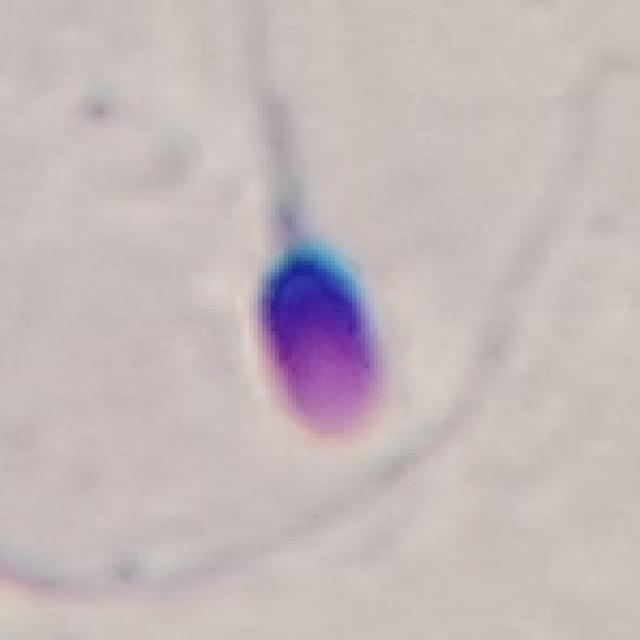normal sperm: (205, 42, 401, 440)
